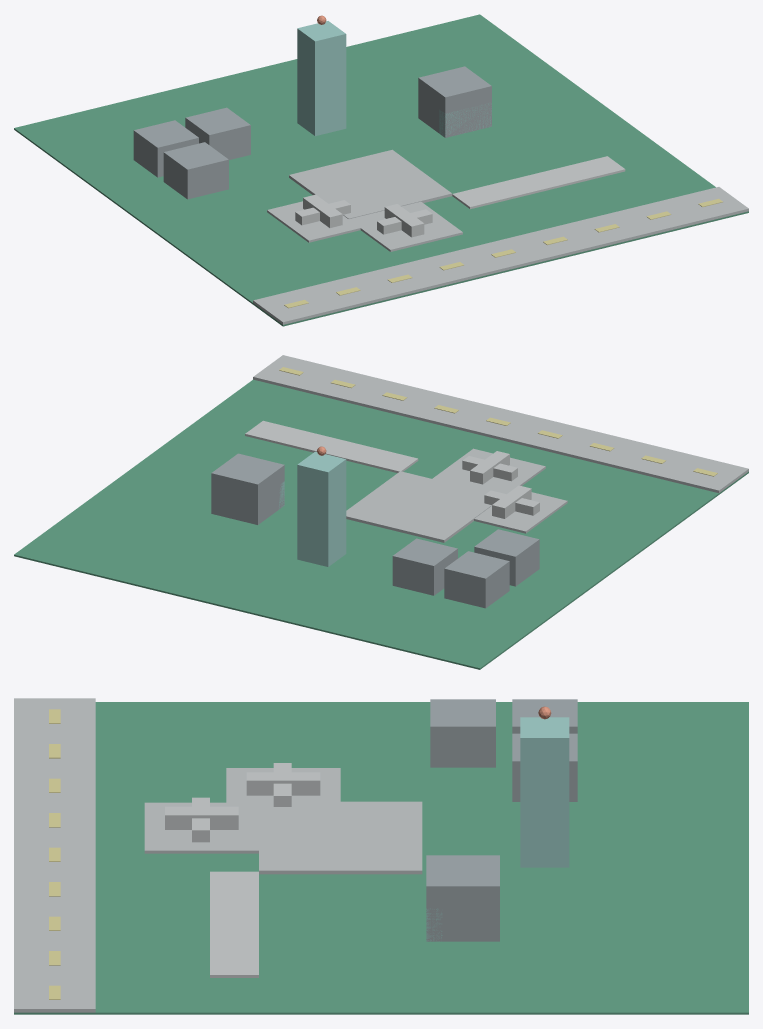
Rendered from stage_09.glb.
The picture shows the model from 3 angles, top to bottom: view 1: azimuth 30°, elevation 25°; view 2: azimuth 150°, elevation 25°; view 3: azimuth 270°, elevation 25°; orthographic projection. The views are drawn at different scales.
Parts seen in each view (by area): view 1: geometry_0; view 2: geometry_0; view 3: geometry_0.
Part boxes in pixels (box(x1,y1,x2,y2)): geometry_0: box(14, 14, 748, 326); geometry_0: box(14, 355, 748, 669); geometry_0: box(14, 698, 748, 1014).
Bounding box in the file's own units: 9 × 2.06 × 9.
